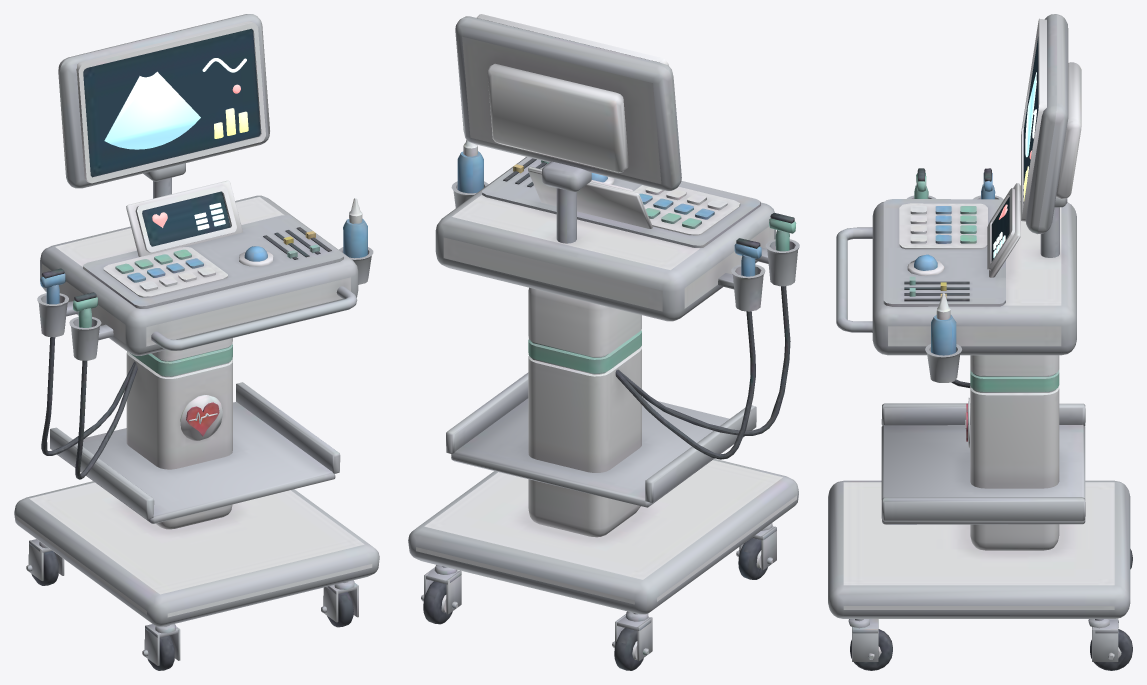
File: medical-ultrasound-machine.glb
3 views of the same model, side by side, from view 1: azimuth 30°, elevation 25°; view 2: azimuth 150°, elevation 25°; view 3: azimuth 270°, elevation 25° (orthographic). The views are drawn at different scales.
Visible parts, largest first — view 1: ultrasound-machine_body, ultrasound-machine_screen_glow, ultrasound-machine_panel_glow; view 2: ultrasound-machine_body; view 3: ultrasound-machine_body, ultrasound-machine_screen_glow.
Boxes of the visible parts, <box> form: ultrasound-machine_body: <box>14,14,379,670</box>; ultrasound-machine_screen_glow: <box>104,58,248,149</box>; ultrasound-machine_panel_glow: <box>152,203,225,230</box>; ultrasound-machine_body: <box>408,14,799,670</box>; ultrasound-machine_body: <box>828,14,1132,670</box>; ultrasound-machine_screen_glow: <box>1023,72,1036,201</box>.
Bounding box in the file's own units: 0.8346 × 1.4 × 0.6861.
Materials: 6 (1 with a texture image).
